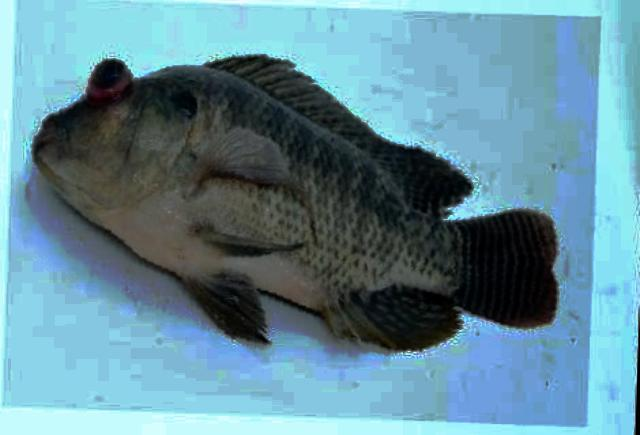Streptococcus: (34, 56, 556, 350)
